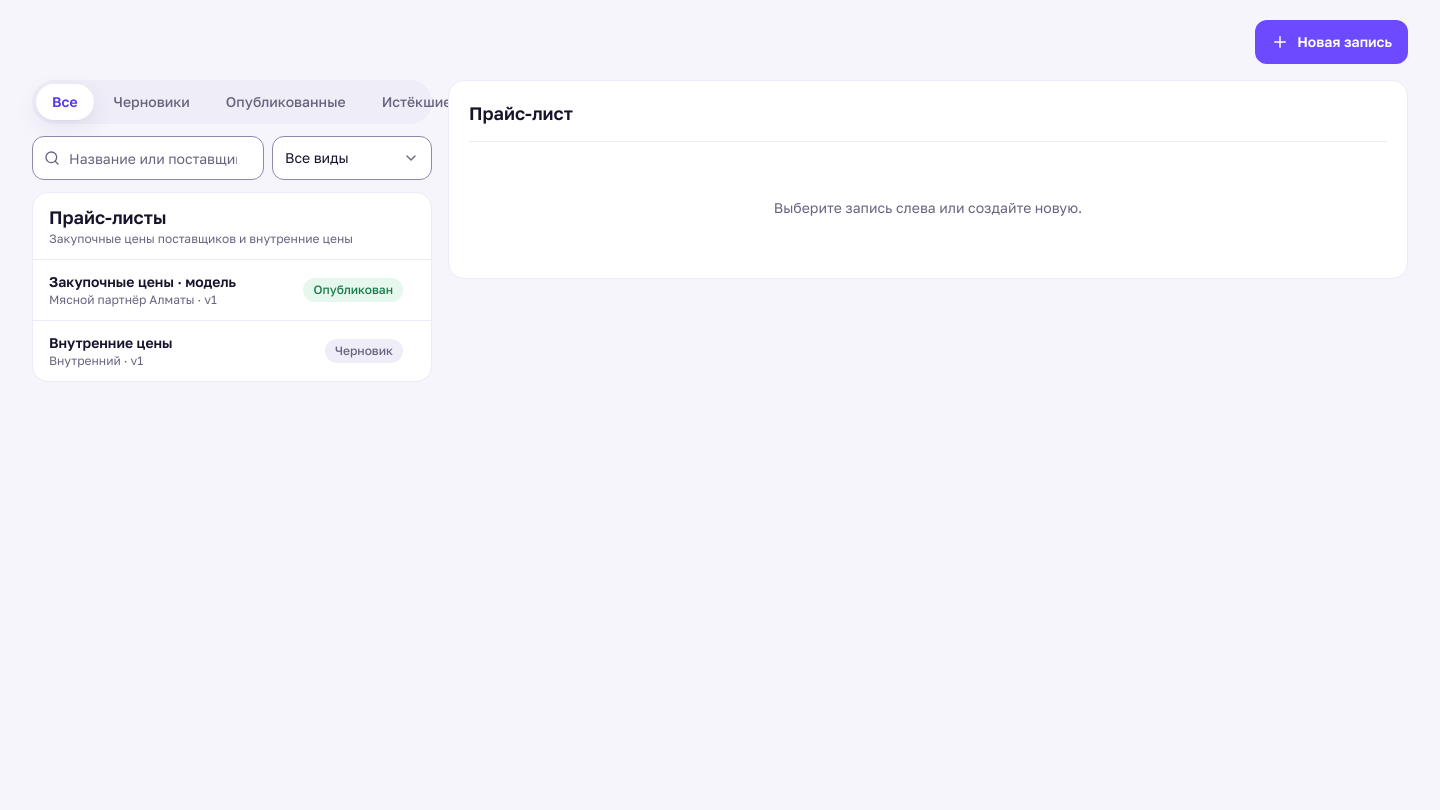
Test case: «Прайс-листы» (W2-CAT-15, office/15) › opens the new record form with the parity fields and defaults
The width and height of the screenshot is (1440, 810).
Click the button "Новая запись" at (1332, 42), box [1255,20,1408,64]
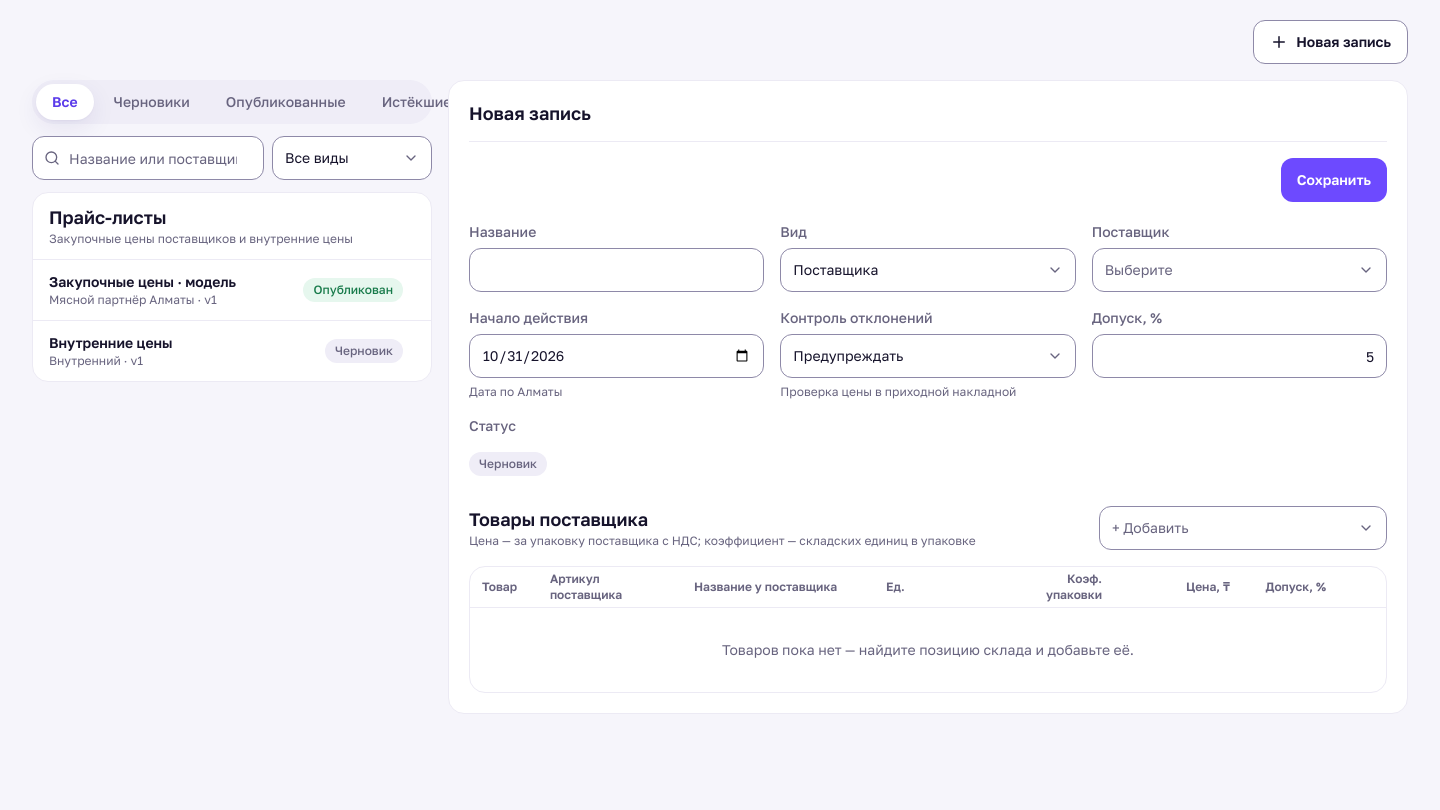
Check: the field labelled "Название" is shown, box [469,248,764,292]
Check: the dropdown named "Вид" is shown, box [780,248,1076,292]
Check: the date field labelled "Начало действия" is shown, box [469,334,764,378]
